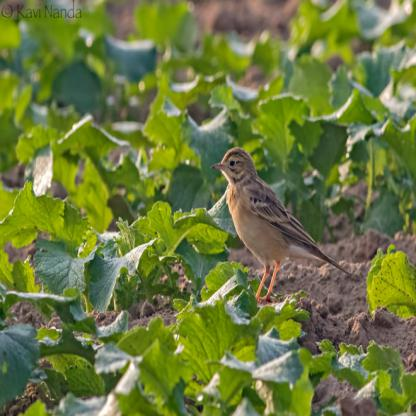Burung: (212, 148, 348, 309)
